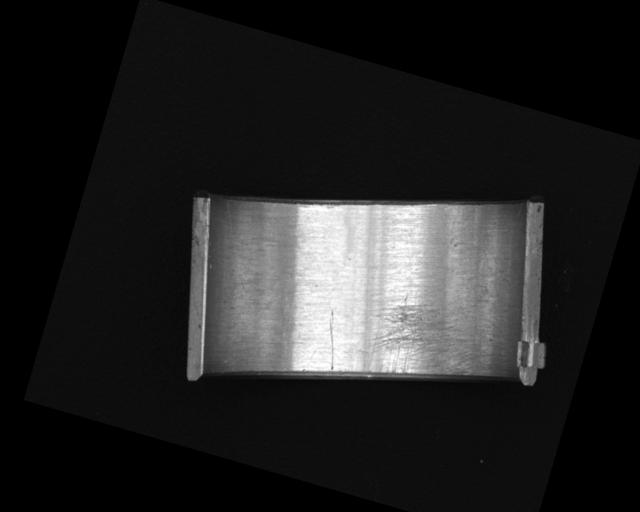nick: (205, 199, 267, 290), (314, 309, 349, 370)
scratch: (362, 289, 484, 399)
